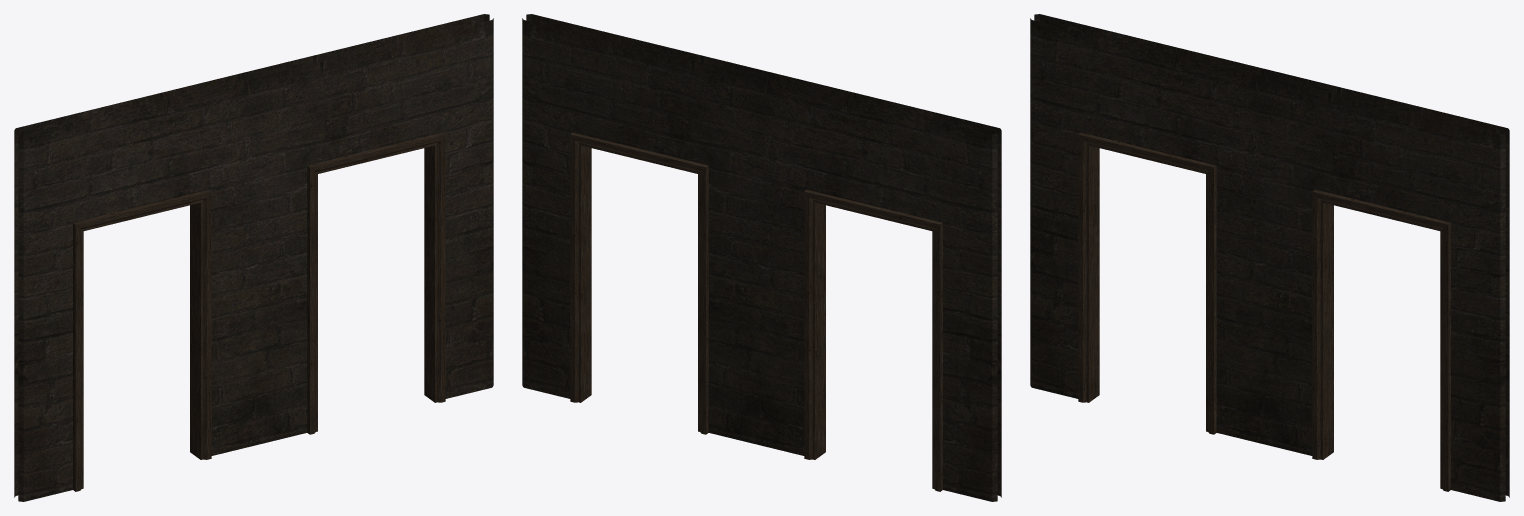
The model's file is double_single_doorway_3.obj.
3 renders of one model, left to right at view 1: azimuth 30°, elevation 25°; view 2: azimuth 150°, elevation 25°; view 3: azimuth 330°, elevation 25°, orthographic.
Visible parts, largest first — view 1: double_single_doorway_3; view 2: double_single_doorway_3; view 3: double_single_doorway_3.
Boxes of the visible parts, x1,y1,x2,y2 form: double_single_doorway_3: (14,14,493,501); double_single_doorway_3: (522,14,1001,501); double_single_doorway_3: (1030,14,1509,501).
Bounding box in the file's own units: 4.06 × 3 × 0.2.
